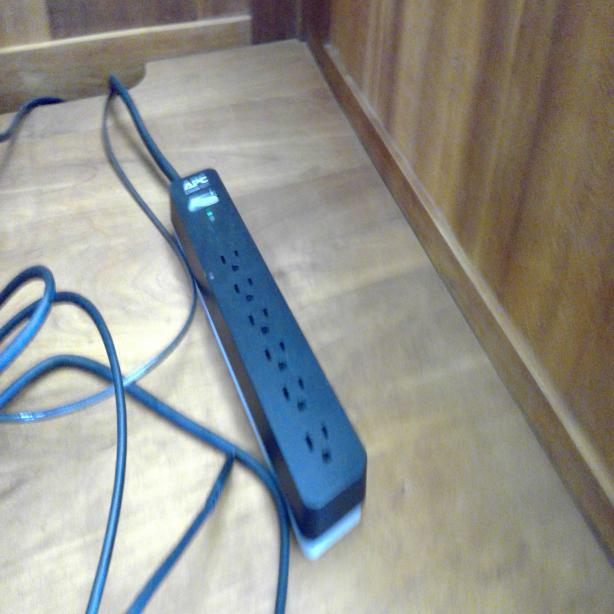typeb: (303, 423, 332, 469), (282, 376, 310, 422), (215, 238, 243, 278), (263, 338, 289, 376), (246, 306, 274, 338), (231, 276, 259, 306)
